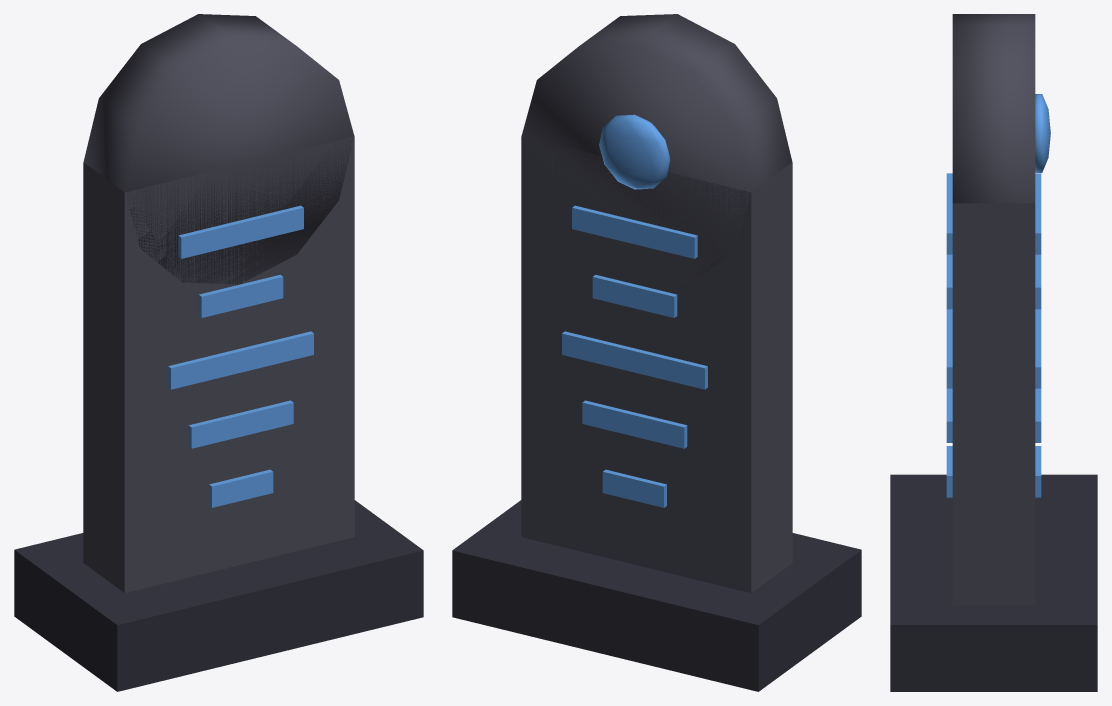
File: mysterious_tablet.glb
The picture shows the model from 3 angles, left to right: view 1: azimuth 30°, elevation 25°; view 2: azimuth 150°, elevation 25°; view 3: azimuth 270°, elevation 25°; orthographic projection.
Parts seen in each view (by area): view 1: mysterious_tablet; view 2: mysterious_tablet; view 3: mysterious_tablet.
Boxes of the visible parts, x1,y1,x2,y2 form: mysterious_tablet: (14, 14, 423, 691); mysterious_tablet: (452, 14, 861, 691); mysterious_tablet: (890, 14, 1097, 691).
Size of the model in its own units: 1.2 by 2.2 by 0.7.
